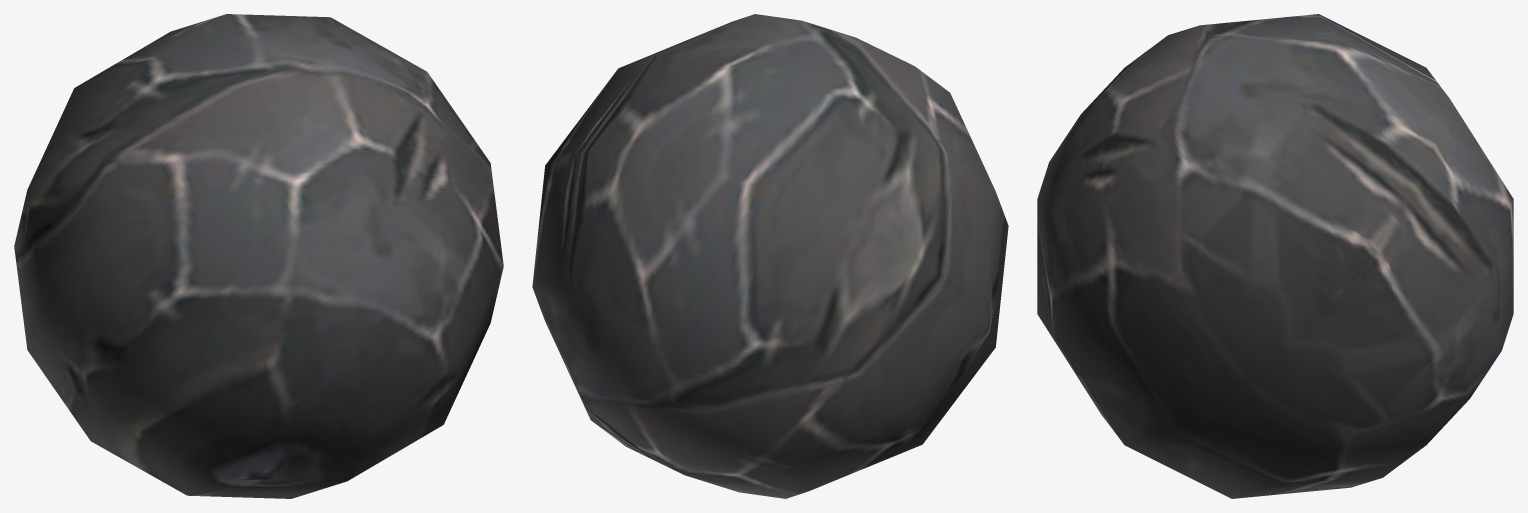
Rendered from shitou.FBX.
The picture shows the model from 3 angles, left to right: view 1: azimuth 30°, elevation 25°; view 2: azimuth 150°, elevation 25°; view 3: azimuth 270°, elevation 25°; orthographic projection. The views are drawn at different scales.
Parts seen in each view (by area): view 1: 对象001; view 2: 对象001; view 3: 对象001.
Part boxes in pixels (left/top/right/bottom): 对象001: left=14, top=14, right=503, bottom=498; 对象001: left=532, top=14, right=1008, bottom=498; 对象001: left=1037, top=14, right=1513, bottom=498.
Bounding box in the file's own units: 22.72 × 21.94 × 21.94.
